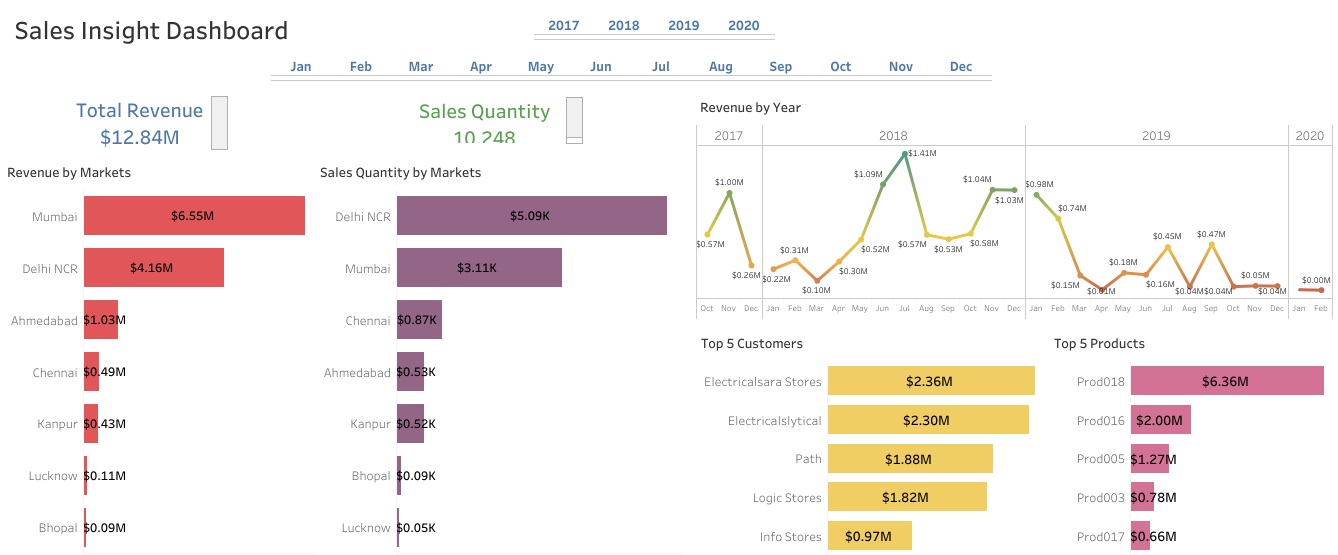

What the dashboard file says about the page in this screenshot:
{"tool":"tableau","page":{"name":"Dashboard","canvas":[1000,1000],"units":"permille","ordinal":0},"visuals":[{"type":"worksheet","title":"Year","mark":"Automatic","cols":["cy_date"],"box":[399.2,25.3,216.1,53.8]},{"type":"worksheet","title":"Month","mark":"Automatic","cols":["cy_date"],"box":[202.6,98.1,625.1,66.5]},{"type":"worksheet","title":"Revenue by Year","mark":"Automatic","rows":["Calculation_1323495406681296897"],"cols":["cy_date","cy_date"],"box":[519.5,163,476.3,411.4]},{"type":"worksheet","title":"Revenue","mark":"Automatic","box":[52,172.5,145.5,94.9]},{"type":"worksheet","title":"Quantity","mark":"Automatic","box":[302.2,174.1,144.6,83.9]},{"type":"worksheet","title":"Sales Quantity by Markets","mark":"Automatic","rows":["markets_name"],"cols":["sales_qty"],"box":[236.4,253.2,272,742.1]},{"type":"worksheet","title":"Revenue by Markets","mark":"Automatic","rows":["markets_name"],"cols":["Calculation_1323495406681296897"],"box":[2.5,254.8,233.9,740.5]},{"type":"worksheet","title":"Top 5 Customers","mark":"Automatic","rows":["custmer_name"],"cols":["Calculation_1323495406681296897"],"box":[520.3,588.6,260.2,409.8]},{"type":"worksheet","title":"Top 5 Products","mark":"Automatic","rows":["product_code (products)"],"cols":["Calculation_1323495406681296897"],"box":[783.9,588.6,212.7,409.8]}]}

Visuals, with their boxes on the dashboard's canvas, which has no fixed pixel size, in thousandths of its width and height (x1, y1, x2, y2). These are canvas units, not pixel positions in the 1338x555 screenshot, which may show the page scaled, cropped or inside an application window:
"Year" worksheet: 399/25/615/79
"Month" worksheet: 203/98/828/165
"Revenue by Year" worksheet: 520/163/996/574
"Revenue" worksheet: 52/172/198/267
"Quantity" worksheet: 302/174/447/258
"Sales Quantity by Markets" worksheet: 236/253/508/995
"Revenue by Markets" worksheet: 2/255/236/995
"Top 5 Customers" worksheet: 520/589/780/998
"Top 5 Products" worksheet: 784/589/997/998
